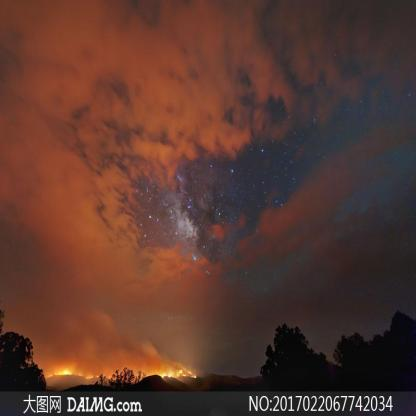fire: (47, 366, 99, 383), (157, 362, 199, 382)
smoke: (88, 307, 161, 361)
